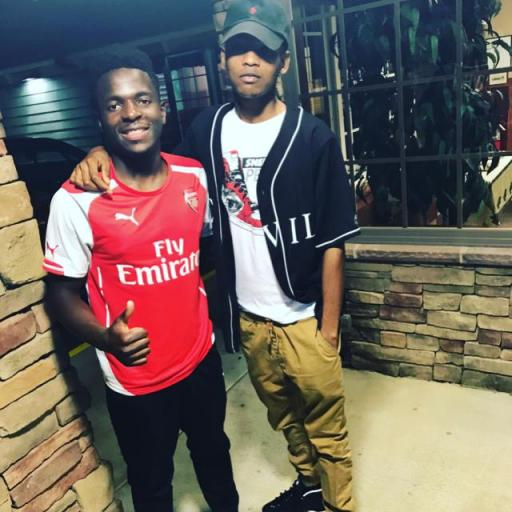Emirates: (114, 236, 200, 287)
